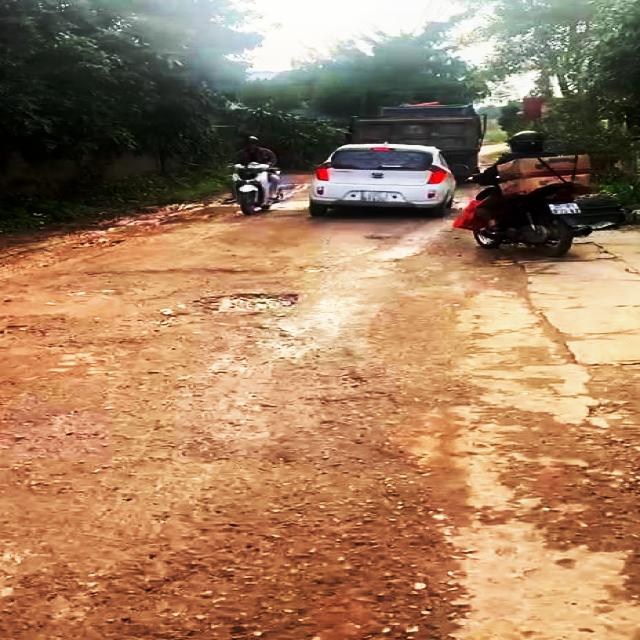pothole: (186, 288, 301, 318)
